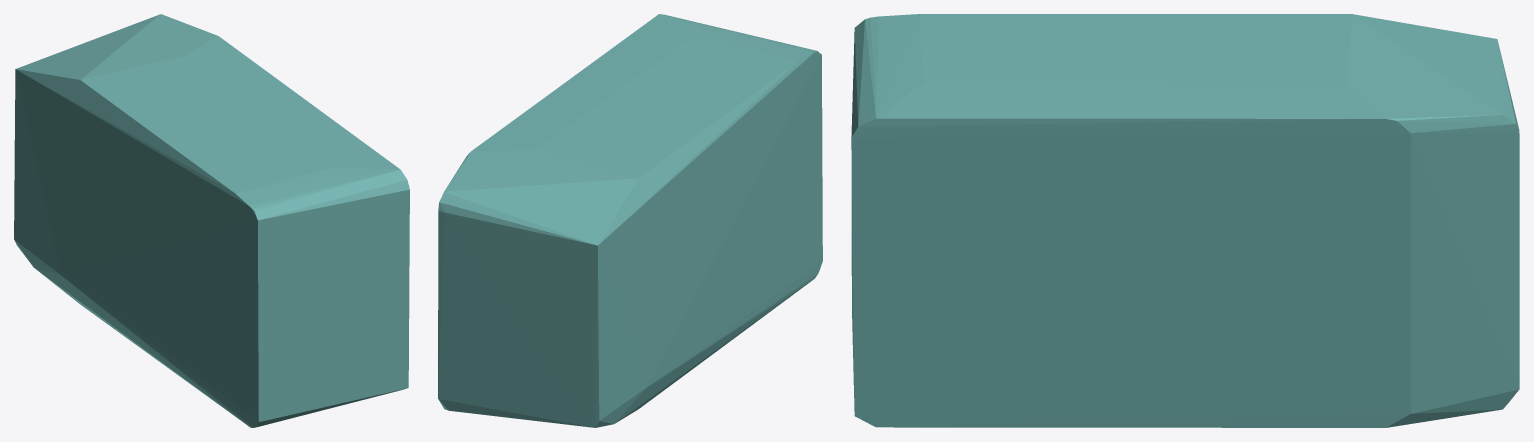
Rendered from cabinet_file_d04.glb.
3 views of the same model, side by side, from view 1: azimuth 30°, elevation 25°; view 2: azimuth 150°, elevation 25°; view 3: azimuth 270°, elevation 25° (orthographic). The views are drawn at different scales.
Parts seen in each view (by area): view 1: geometry_0; view 2: geometry_0; view 3: geometry_0.
Boxes of the visible parts, left/top/right/bottom form: geometry_0: left=14, top=14, right=409, bottom=427; geometry_0: left=438, top=14, right=822, bottom=427; geometry_0: left=851, top=14, right=1519, bottom=427.
Bounding box in the file's own units: 0.1904 × 0.2483 × 0.4786.
